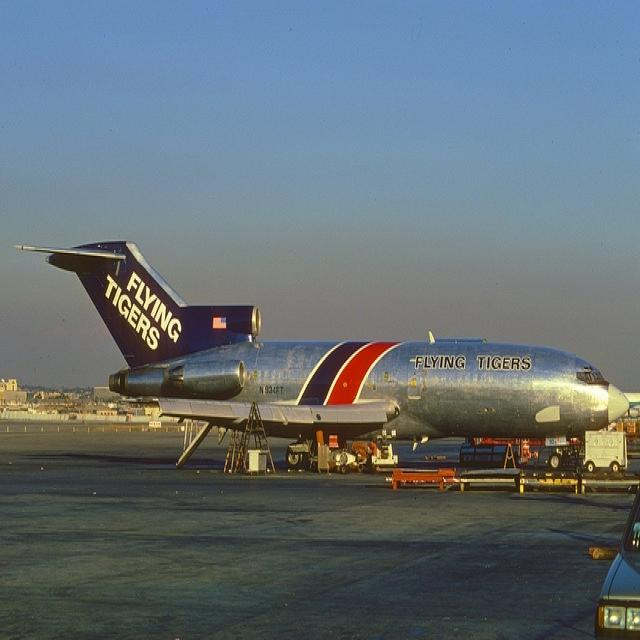car: (592, 484, 639, 636)
truck: (582, 429, 626, 473), (368, 441, 398, 470)
